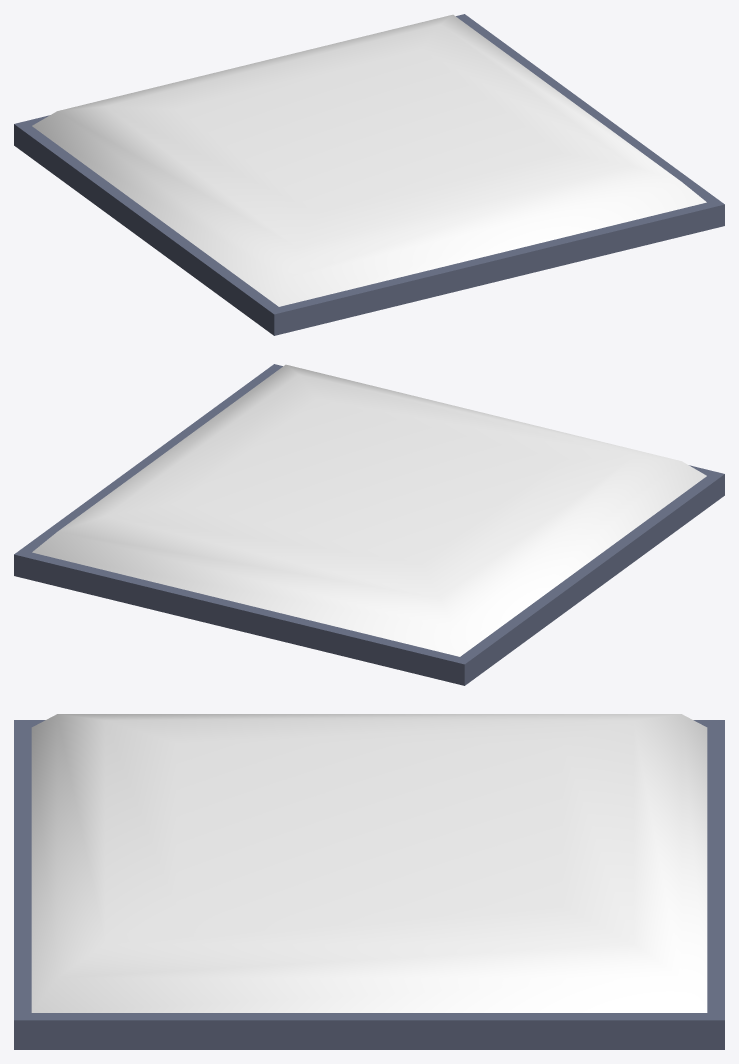
The model's file is ExteriorRoof.FBX.
3 renders of one model, top to bottom at view 1: azimuth 30°, elevation 25°; view 2: azimuth 150°, elevation 25°; view 3: azimuth 270°, elevation 25°, orthographic. The views are drawn at different scales.
Parts seen in each view (by area): view 1: Box002; view 2: Box002; view 3: Box002.
Boxes of the visible parts, bbox=[...] form: Box002: bbox=[14, 14, 724, 335]; Box002: bbox=[14, 364, 724, 685]; Box002: bbox=[14, 714, 724, 1049].
Size of the model in its own units: 40 by 4.61 by 40.
